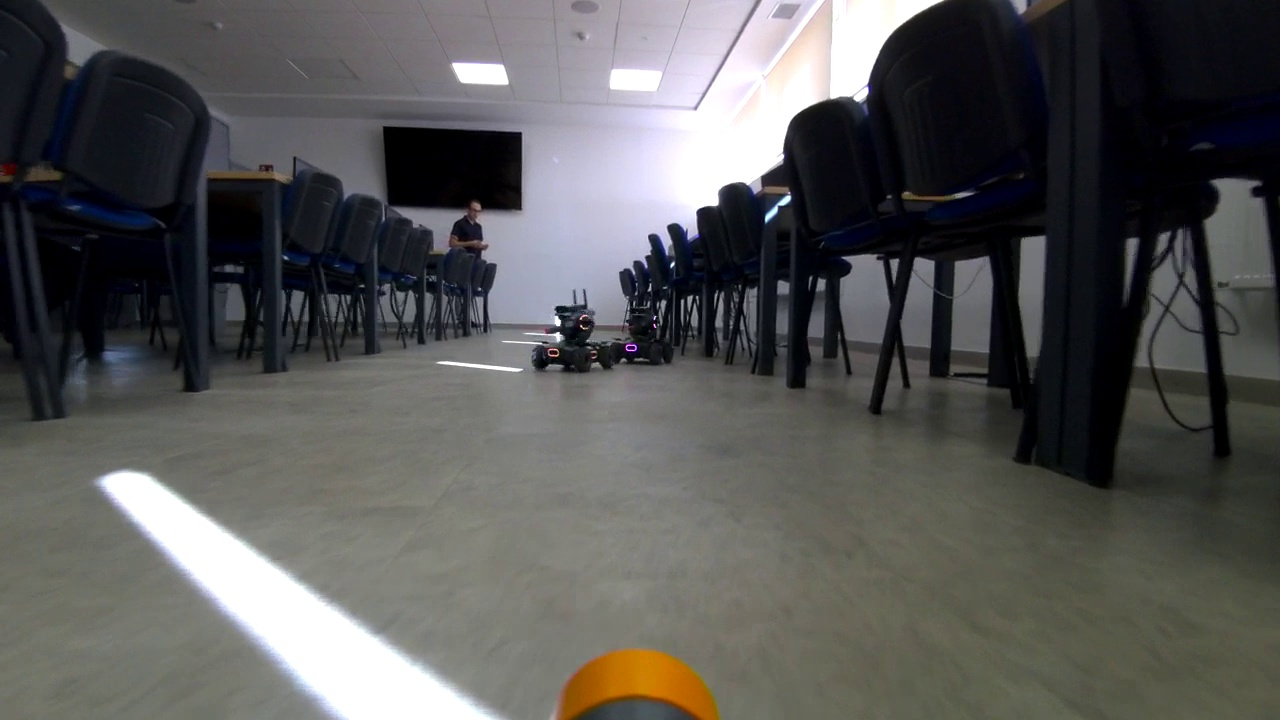robot: (527, 300, 618, 370), (610, 297, 679, 369)
